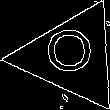O_S: (45, 30, 97, 83)
